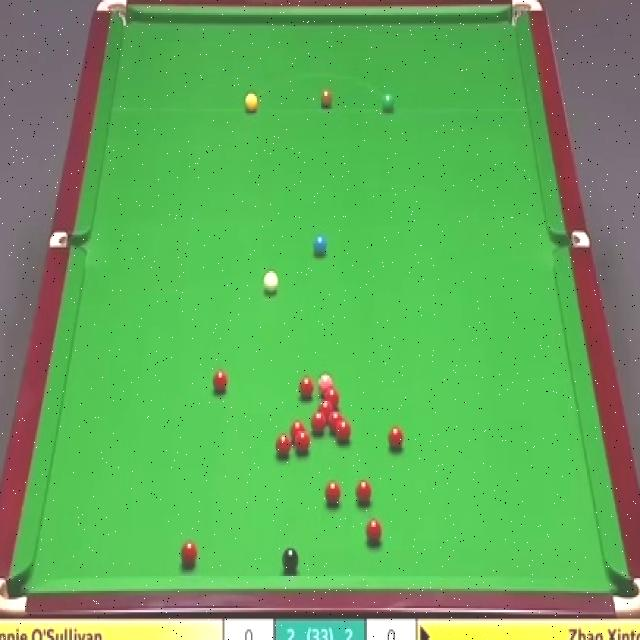black-ball: (280, 544, 299, 570)
blue-ball: (312, 236, 328, 253)
brown-ball: (320, 89, 332, 108)
green-ball: (380, 90, 396, 114)
pink-ball: (314, 375, 332, 391)
red-ball: (387, 422, 404, 451), (180, 540, 196, 570), (364, 517, 380, 544), (296, 427, 312, 453), (211, 368, 227, 394), (310, 411, 326, 435), (326, 484, 342, 508), (334, 419, 351, 441), (355, 478, 370, 502), (276, 436, 292, 457), (316, 399, 332, 418), (327, 408, 342, 428), (300, 376, 313, 398), (324, 388, 338, 407)
white-ball: (262, 271, 280, 295)
yellow-ball: (245, 92, 258, 113)
